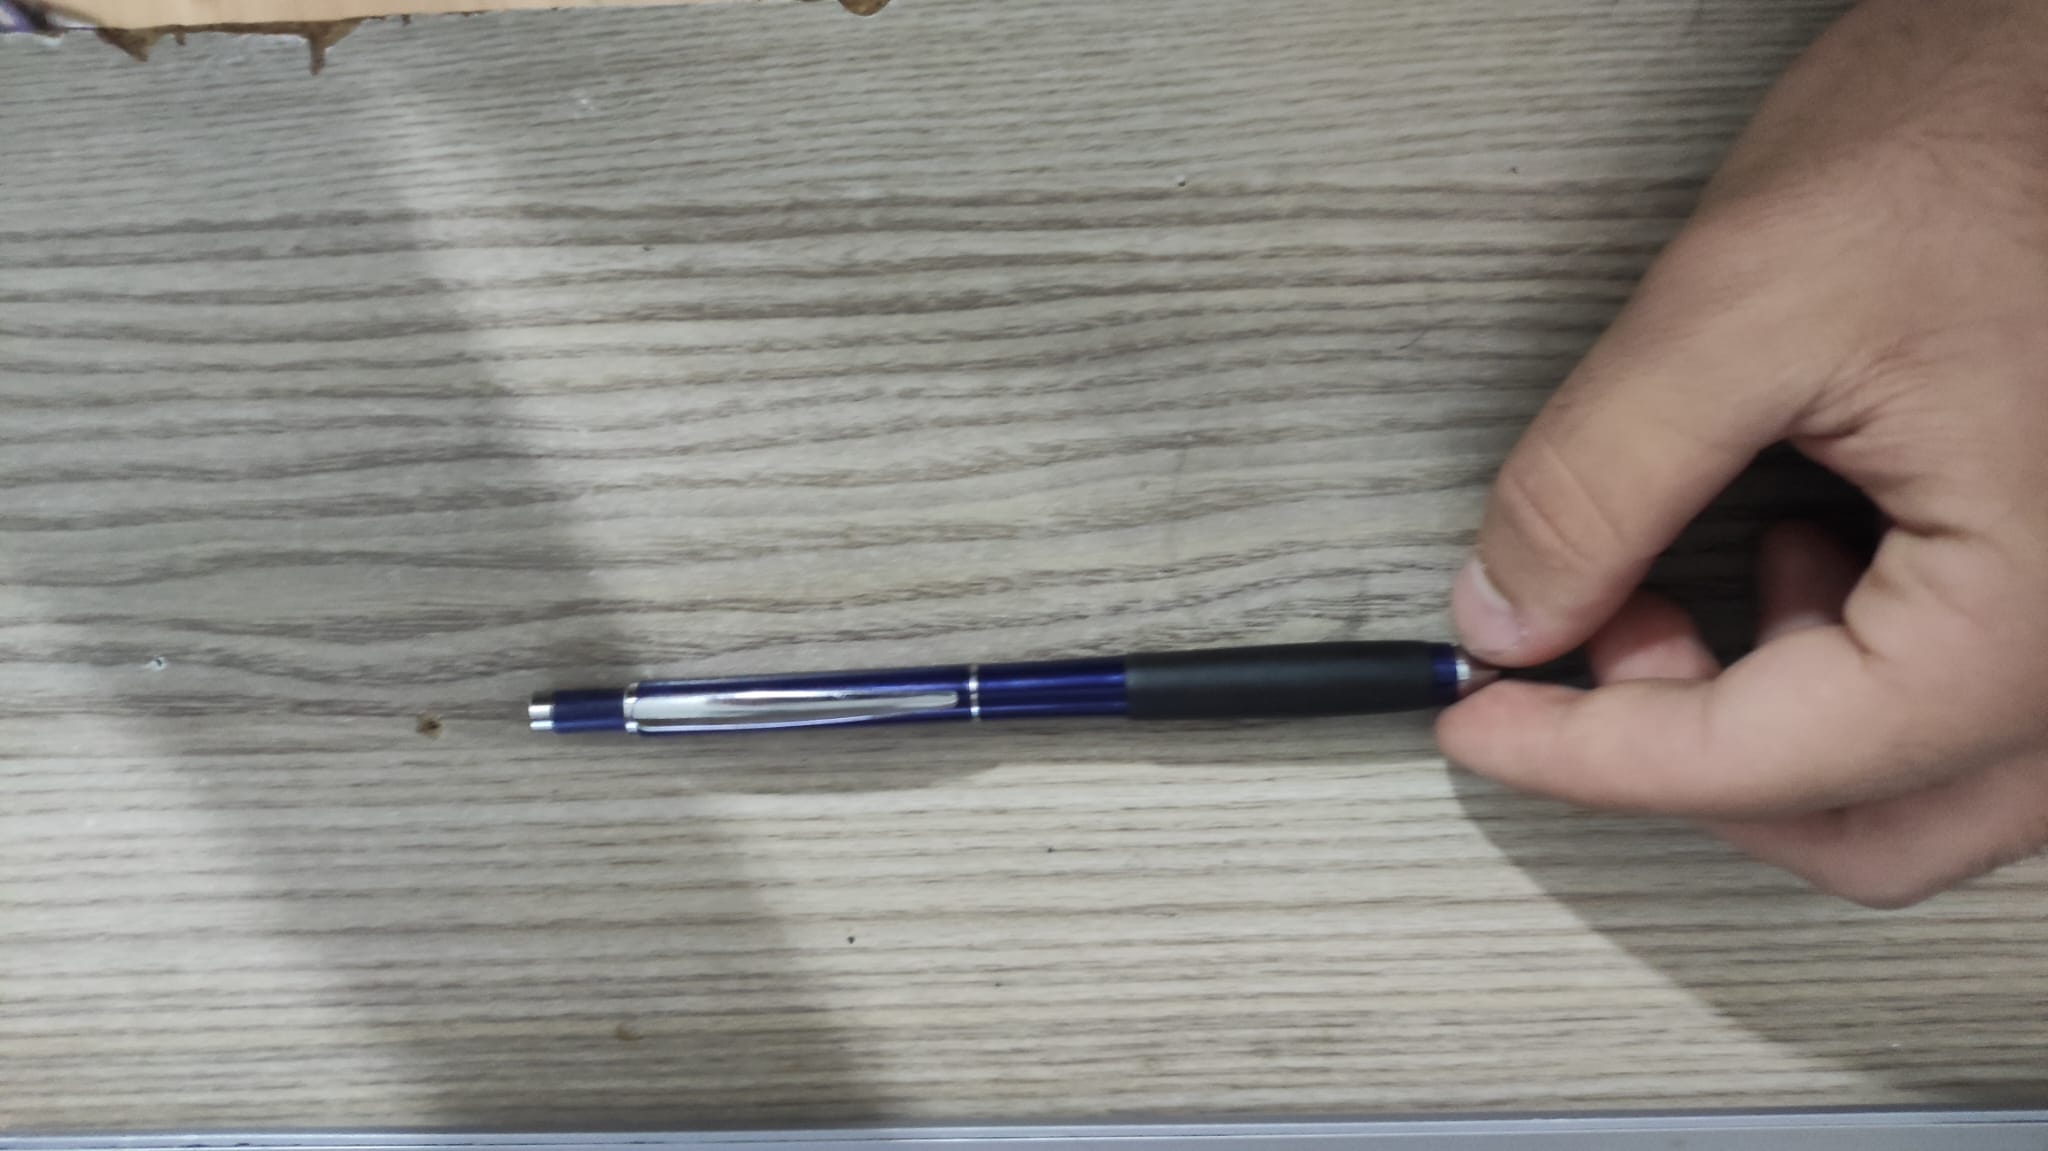kalem: (530, 640, 1478, 740)
